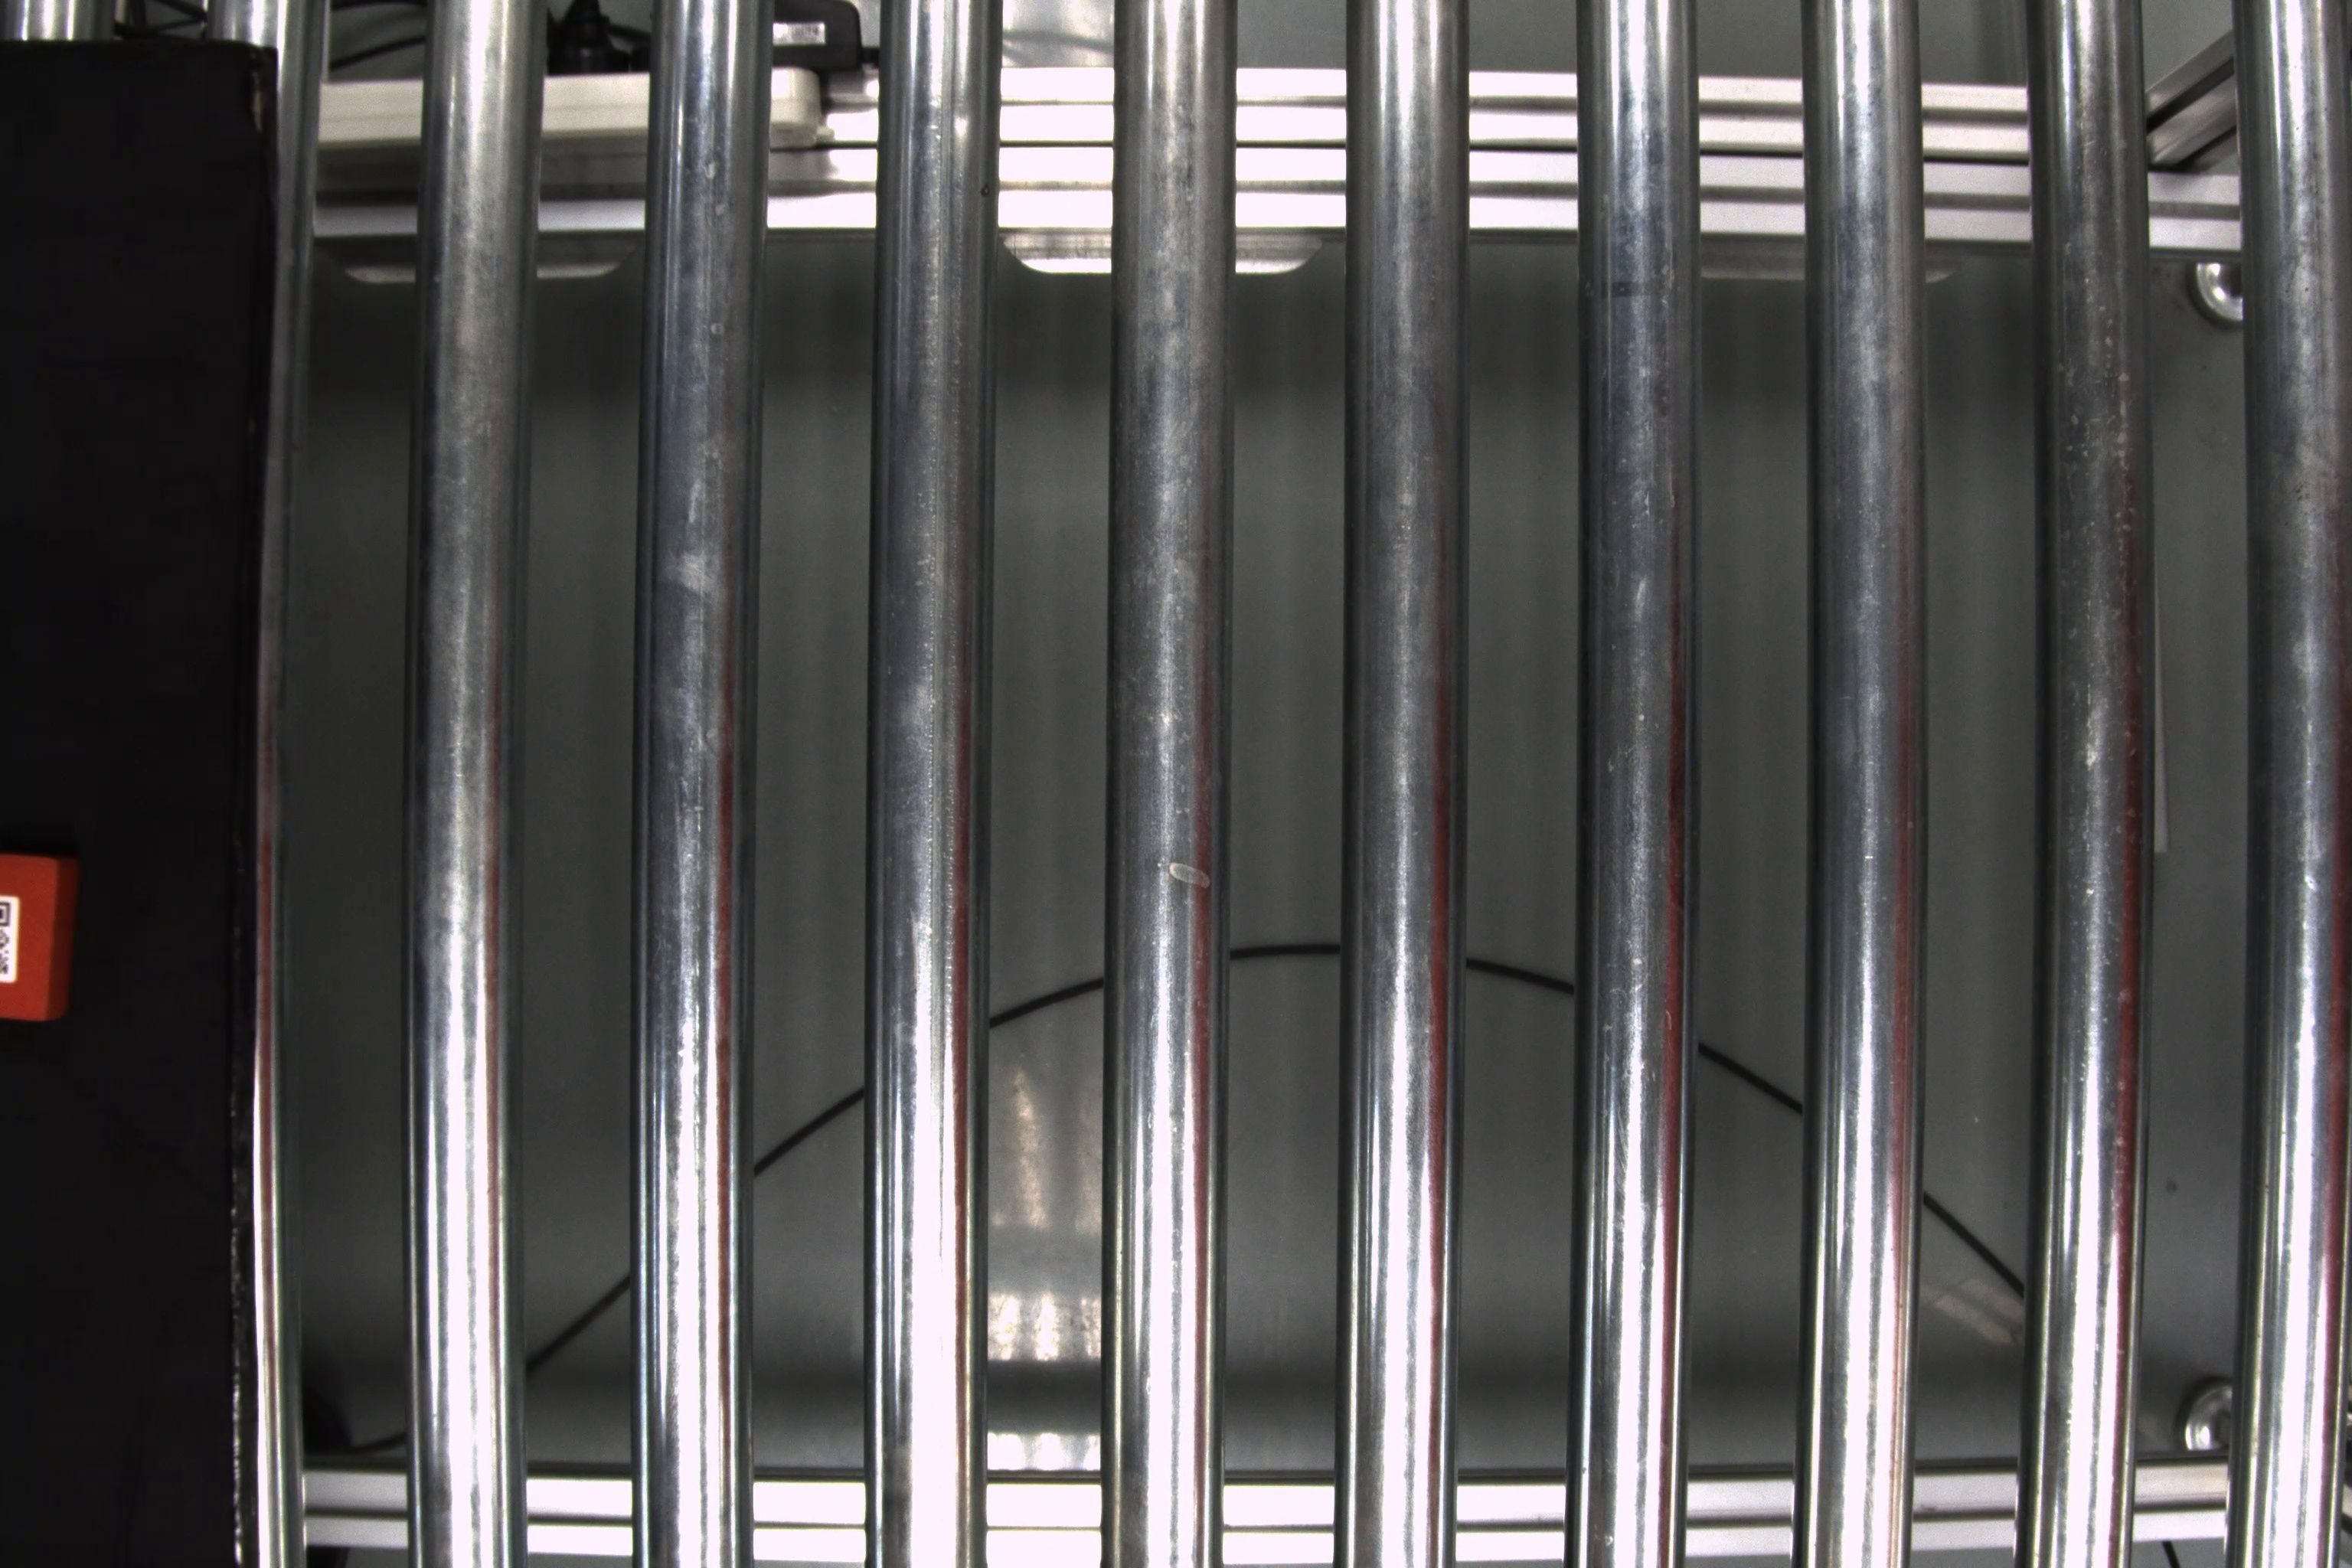wood: (0, 843, 73, 1022)
